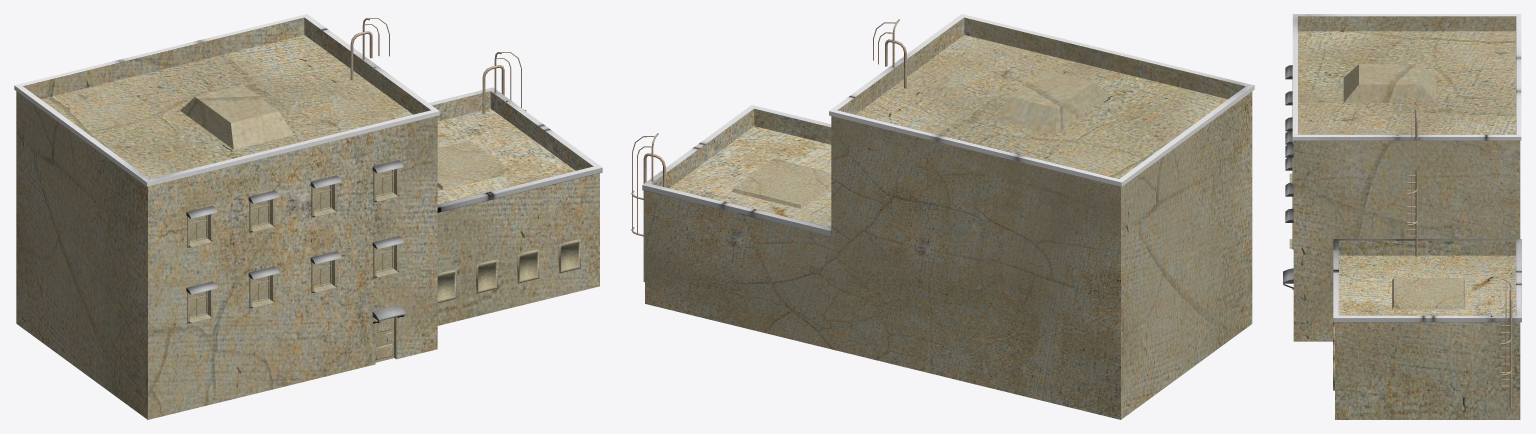
Rendered from building.dae.
The picture shows the model from 3 angles, left to right: view 1: azimuth 30°, elevation 25°; view 2: azimuth 150°, elevation 25°; view 3: azimuth 270°, elevation 25°; orthographic projection. The views are drawn at different scales.
Parts seen in each view (by area): view 1: Plane; view 2: Plane; view 3: Plane.
Boxes of the visible parts, bbox=[...] form: Plane: bbox=[14, 14, 602, 419]; Plane: bbox=[631, 14, 1254, 419]; Plane: bbox=[1283, 14, 1521, 419].
Bounding box in the file's own units: 24.17 × 11.6 × 13.06.
Materials: 11 (11 with a texture image).
